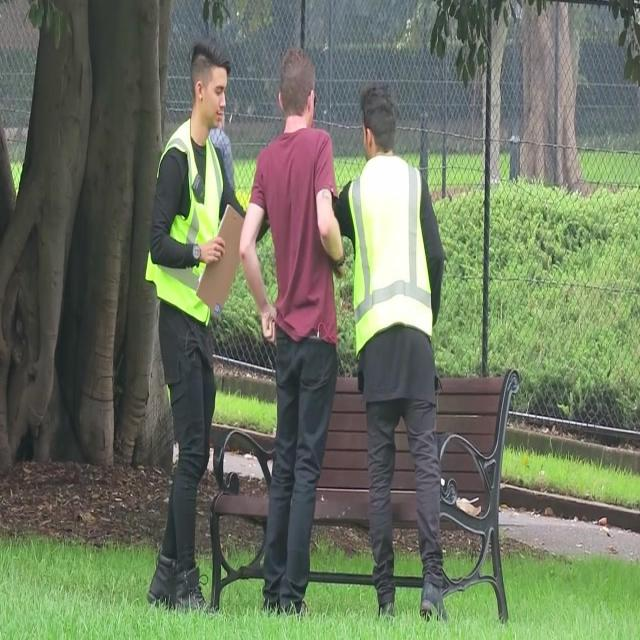Reflective-Jacket: (140, 114, 238, 330), (343, 150, 439, 366)
